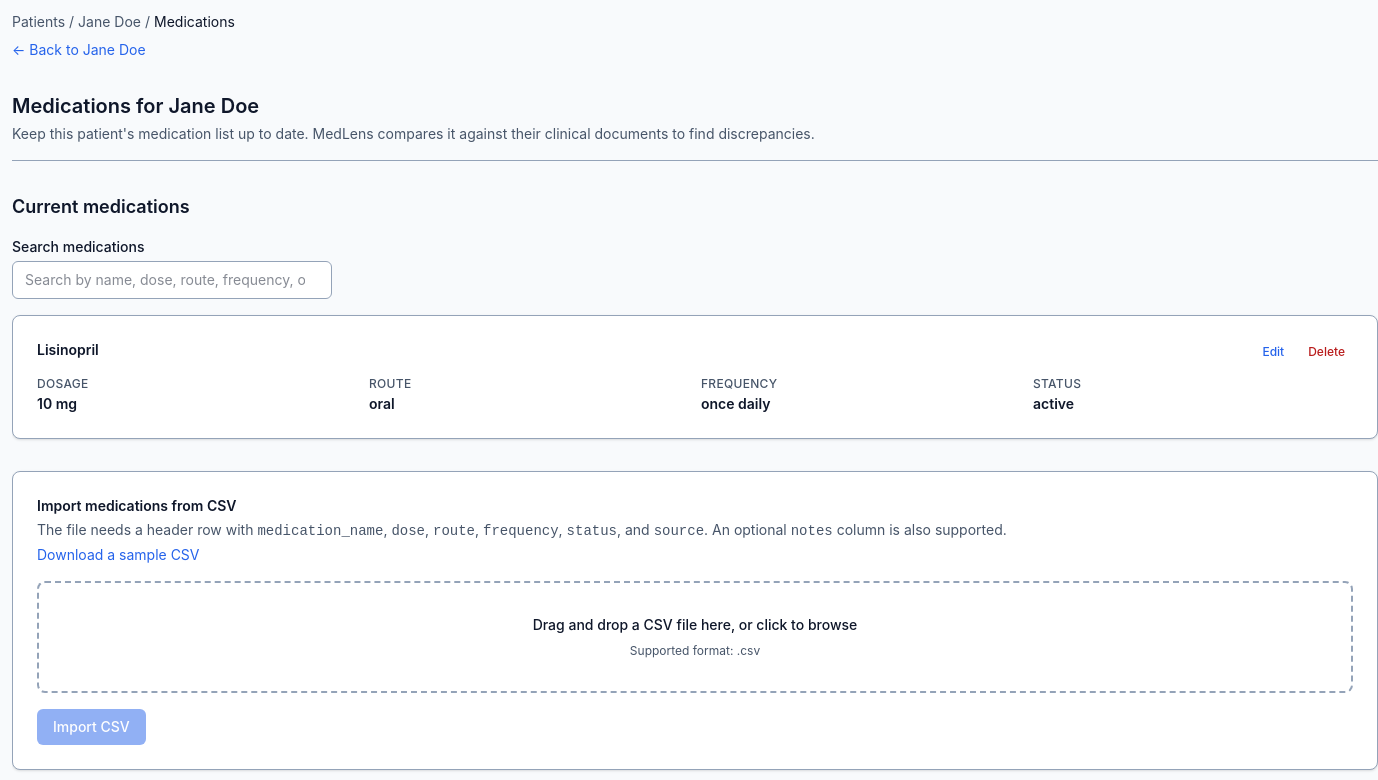
Test: PatientMedicationsPage › edits an existing medication
Expected: the heading "Lisinopril" is shown, [37, 340, 99, 360]
Click the button "Edit": (1273, 352) [1254, 340, 1292, 364]
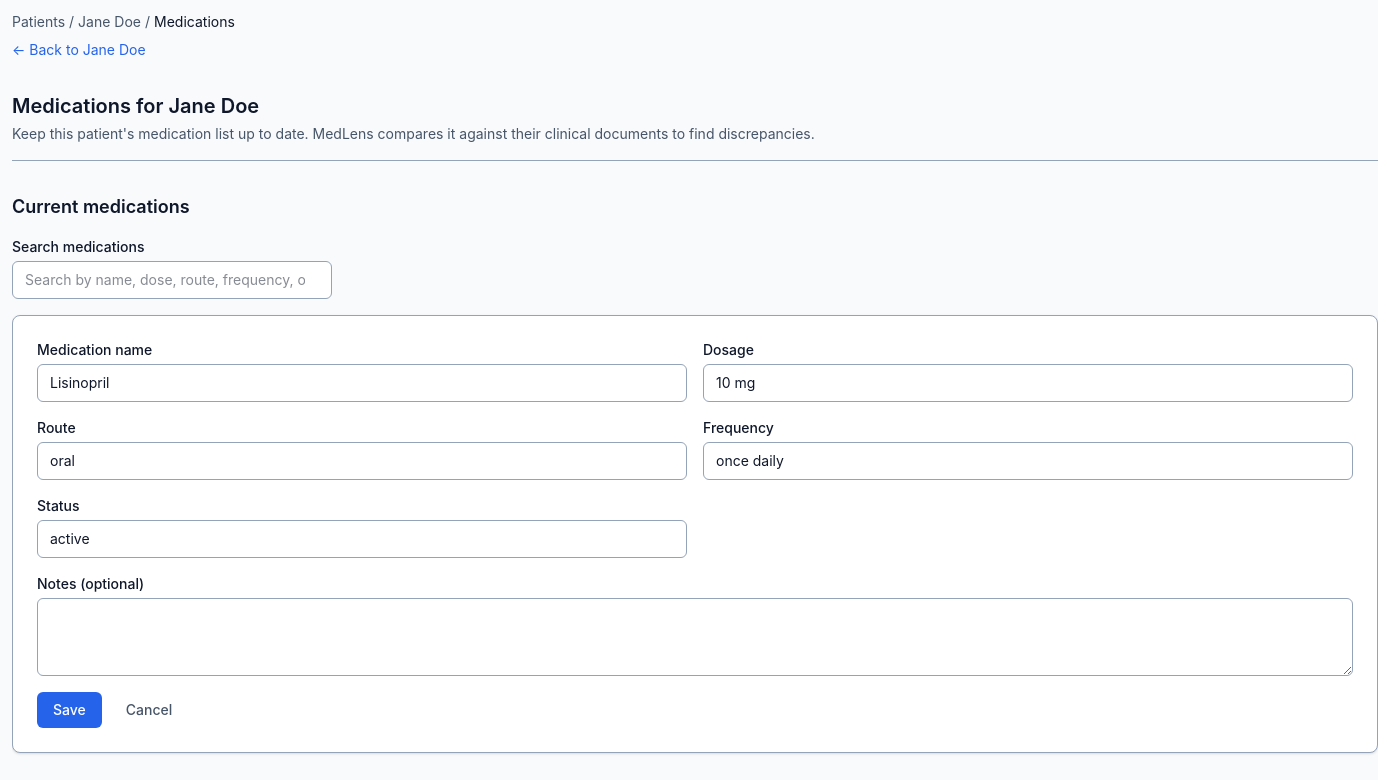
Replace the text in the field labelled "Dosage" with "20 mg": (1028, 383) [703, 364, 1353, 402]
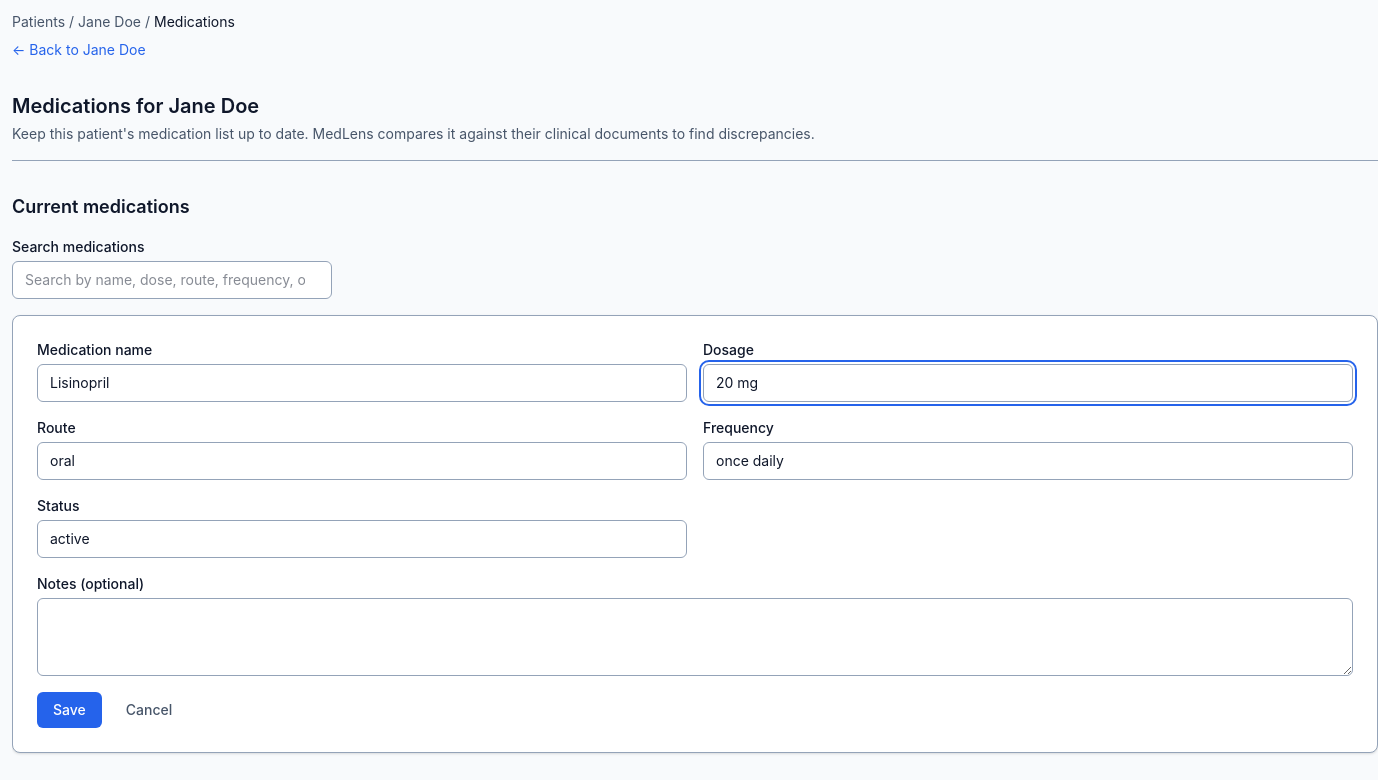
Click the button "Save": (69, 710) [37, 692, 102, 728]
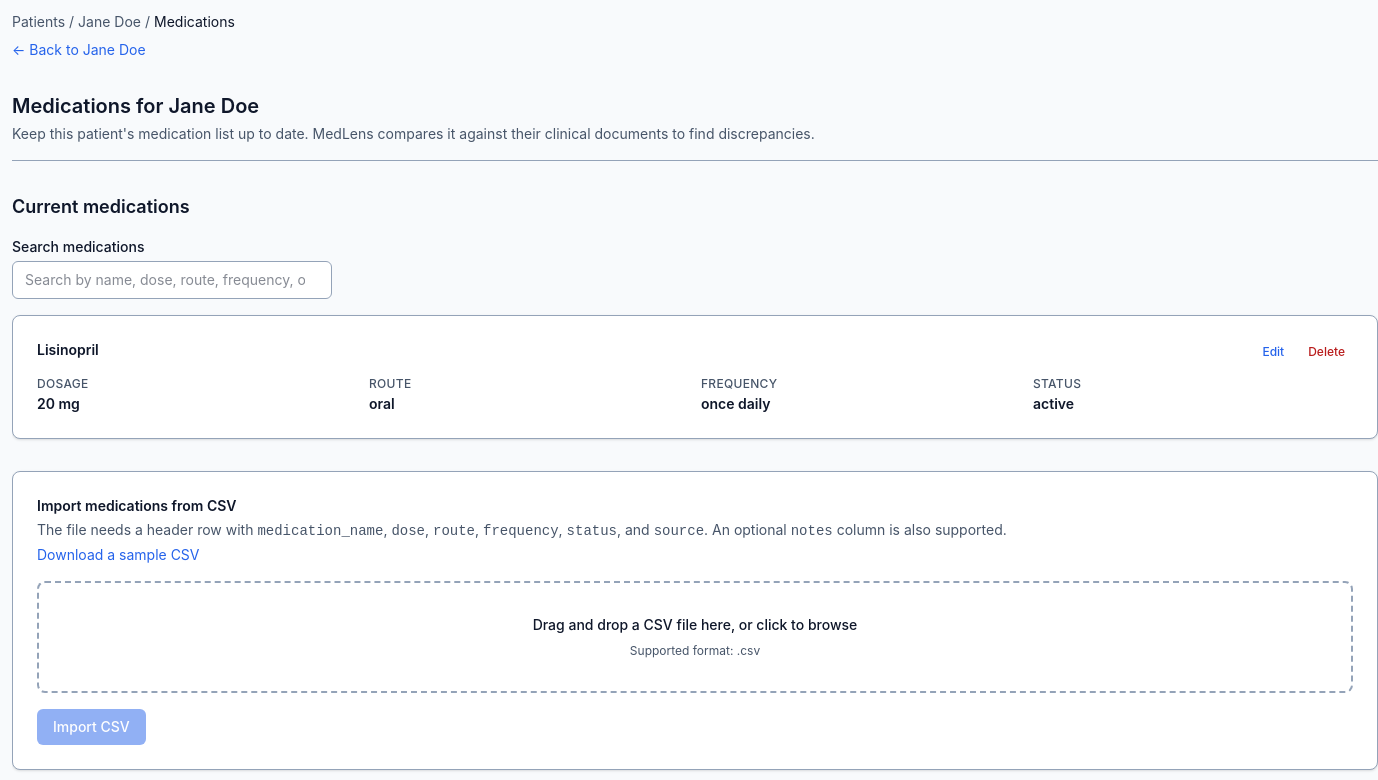
Result: the text "20 mg" is shown at [37, 395, 80, 412]
